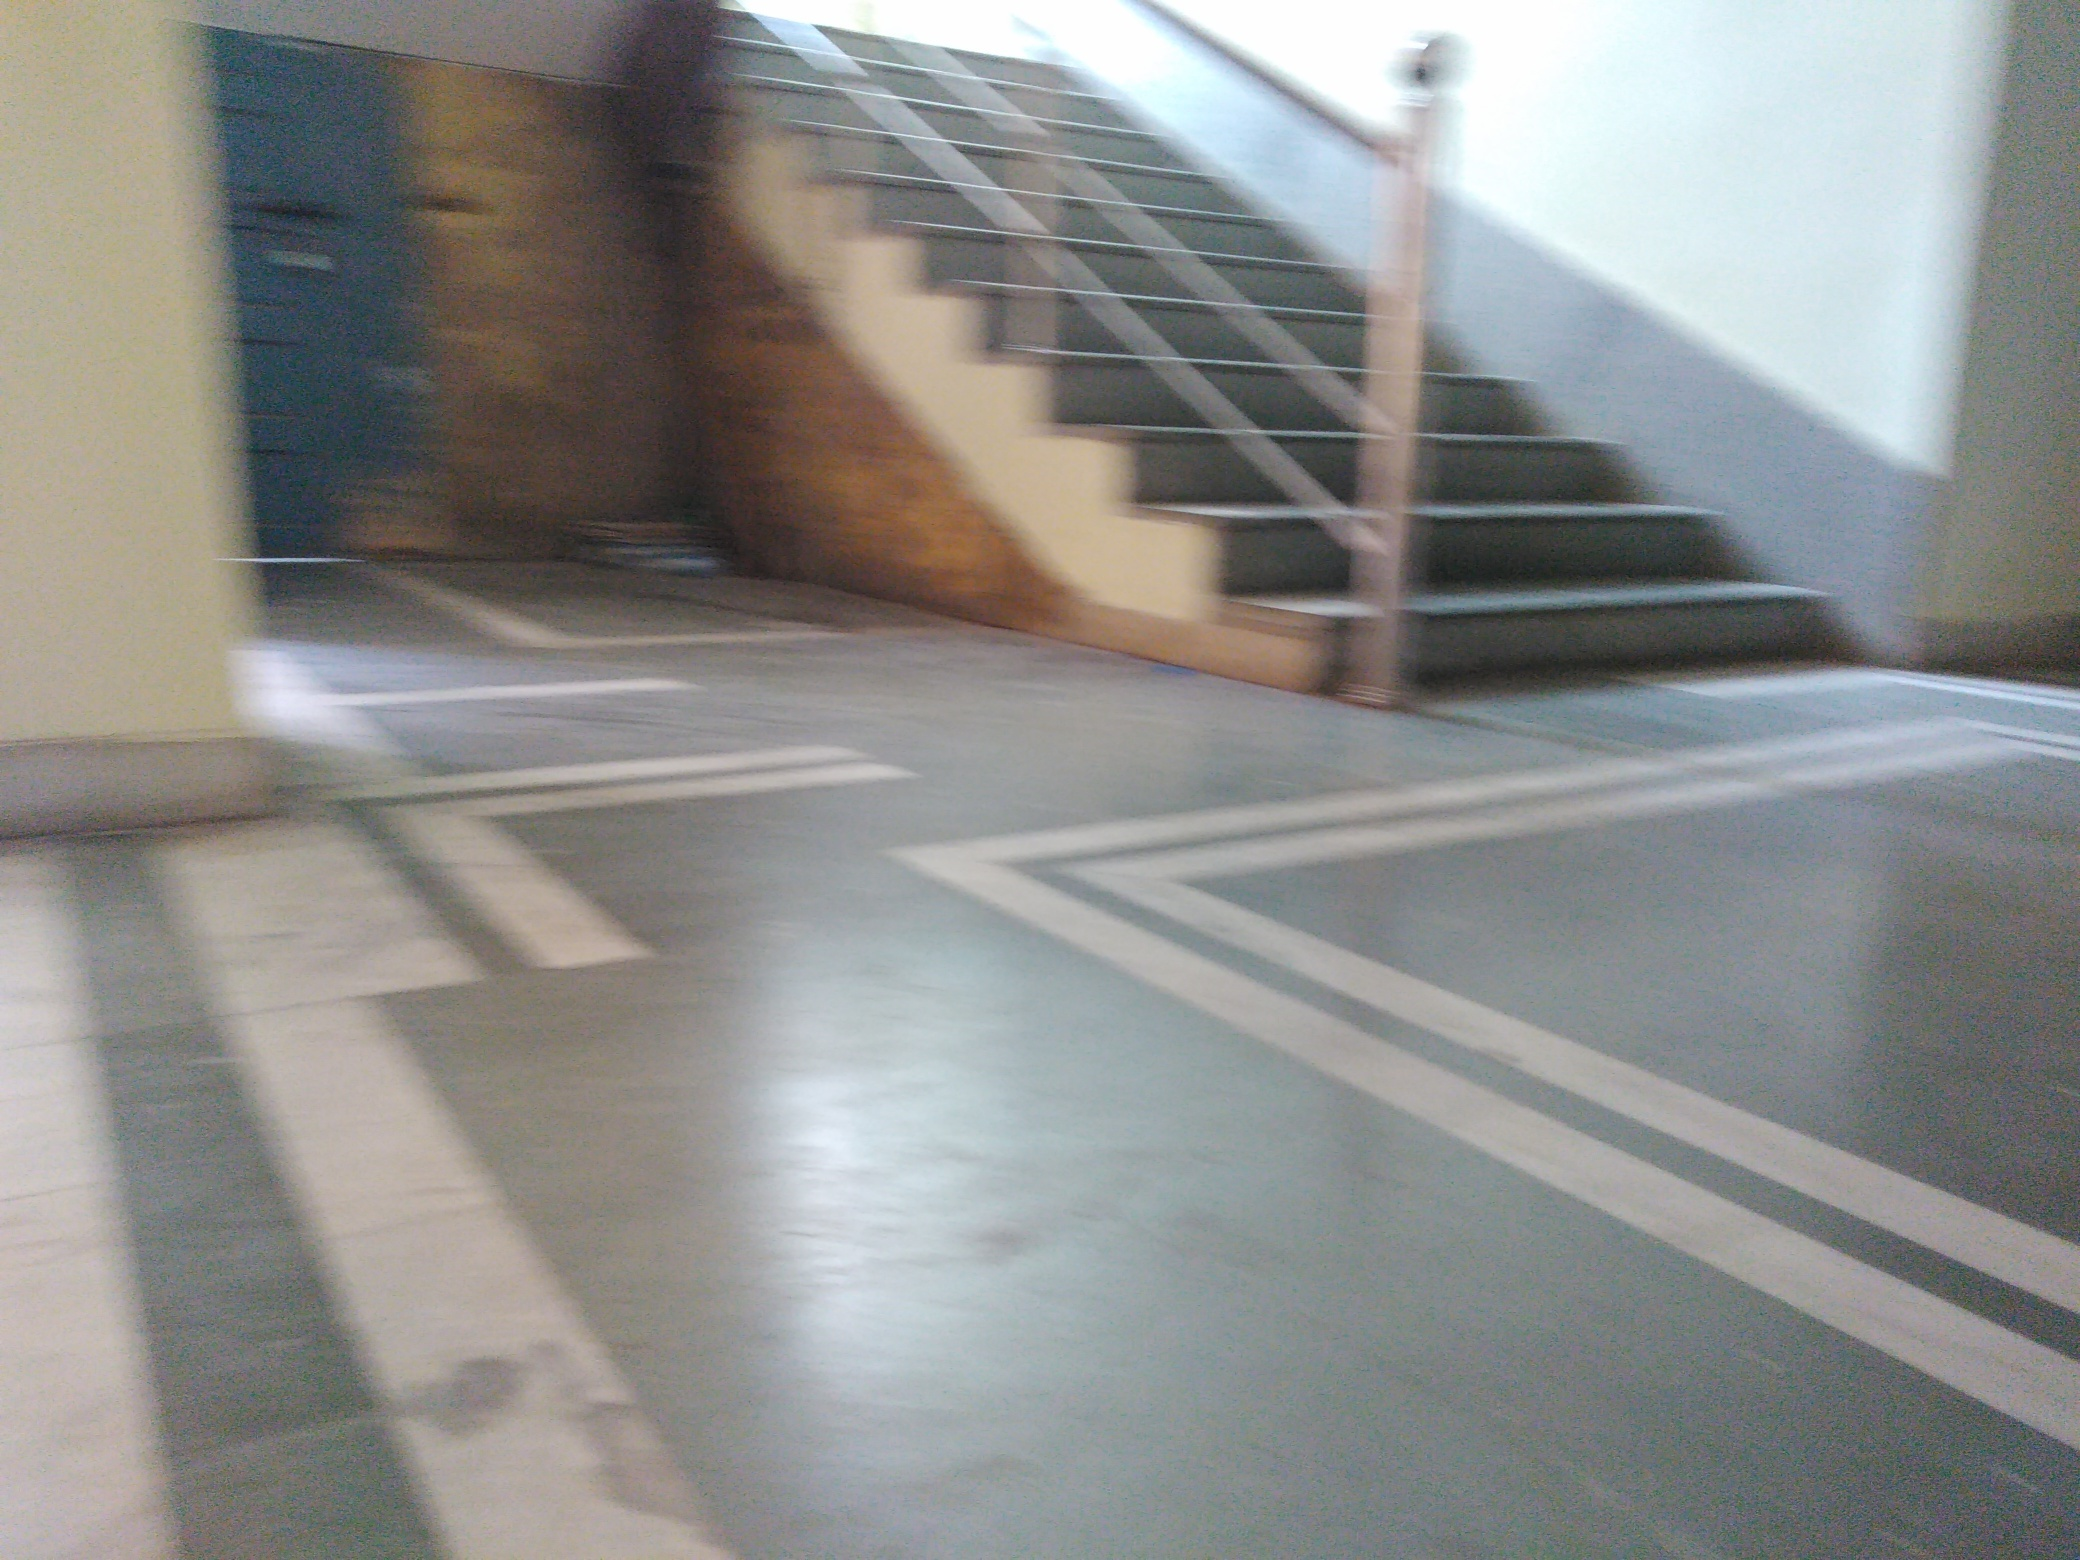stairs_up: (788, 88, 1843, 672)
